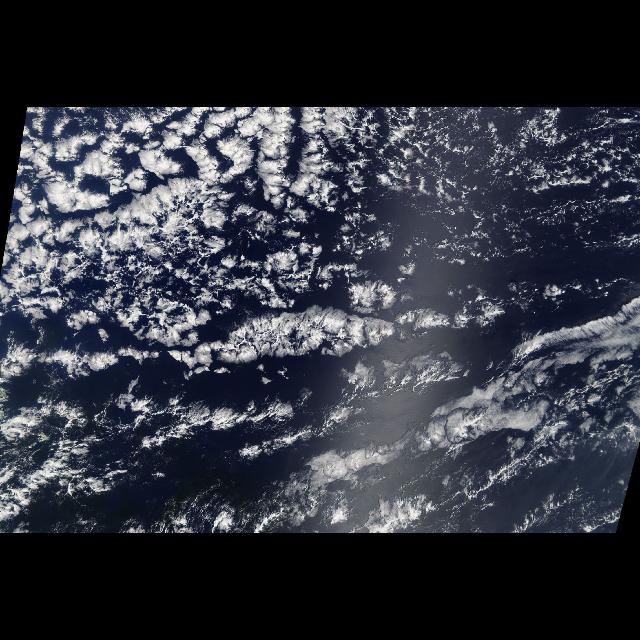Fish: (207, 299, 401, 369)
Flower: (0, 108, 398, 312)
Gravel: (328, 107, 640, 330)
